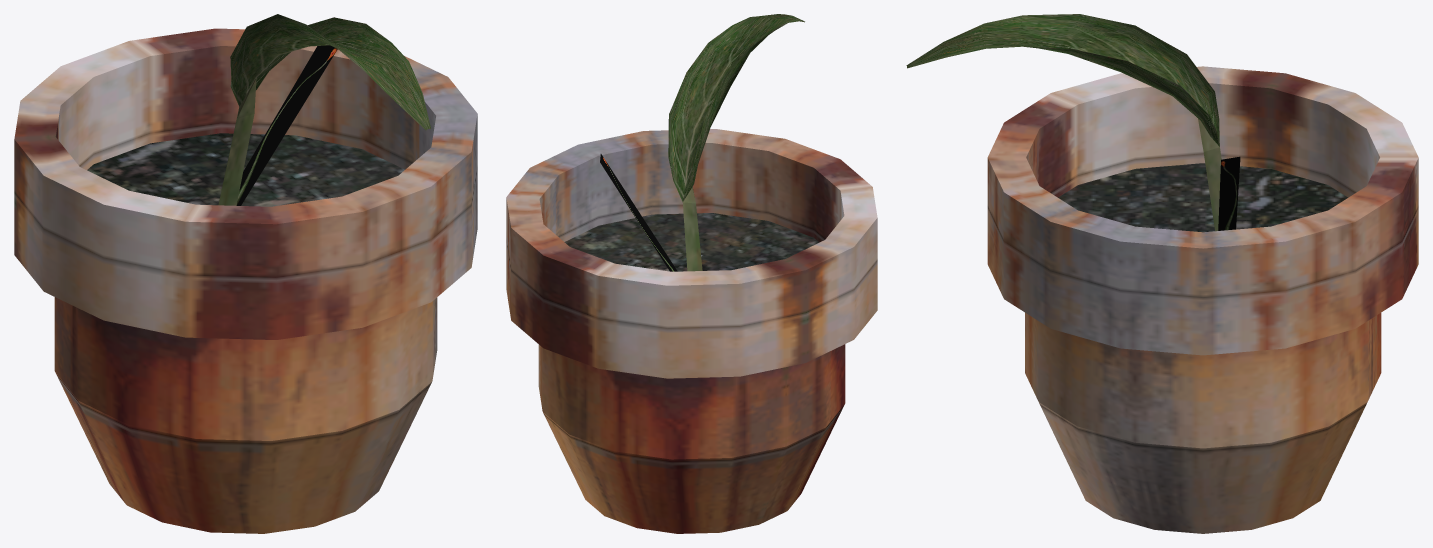
The model's file is frn_quest_fs_plant_1_l0.fbx.
3 renders of one model, left to right at view 1: azimuth 30°, elevation 25°; view 2: azimuth 150°, elevation 25°; view 3: azimuth 270°, elevation 25°, orthographic. The views are drawn at different scales.
Visible parts, largest first — view 1: mesh_node; view 2: mesh_node; view 3: mesh_node.
Part boxes in pixels (x1=…): mesh_node: x1=14, y1=14, x2=477, y2=533; mesh_node: x1=506, y1=14, x2=877, y2=533; mesh_node: x1=906, y1=14, x2=1418, y2=533.
Bounding box in the file's own units: 0.637 × 0.7556 × 0.7571.
Materials: 2 (2 with a texture image).
